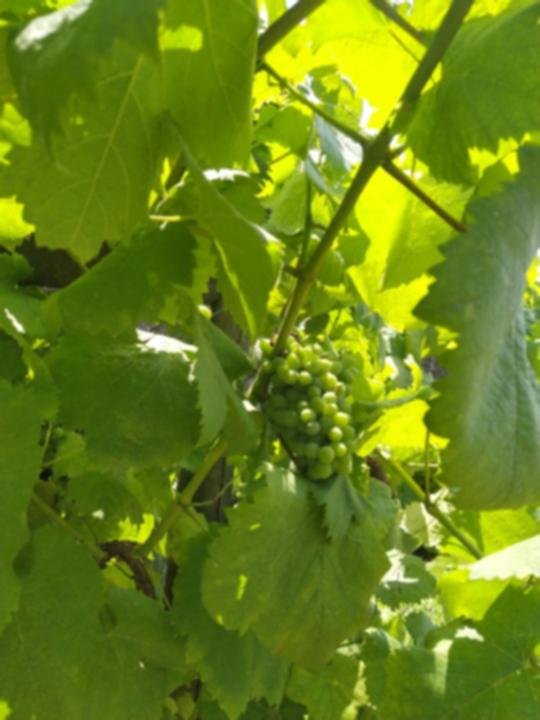grape: (257, 329, 359, 482)
